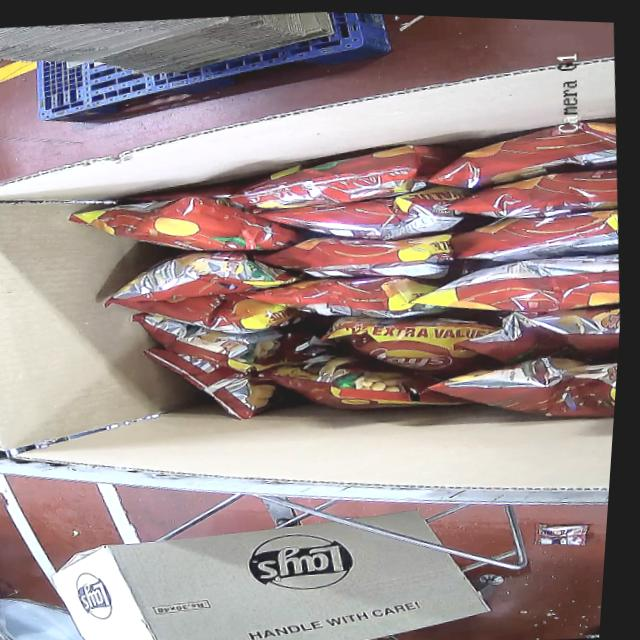MASALA: (46, 98, 634, 462)
